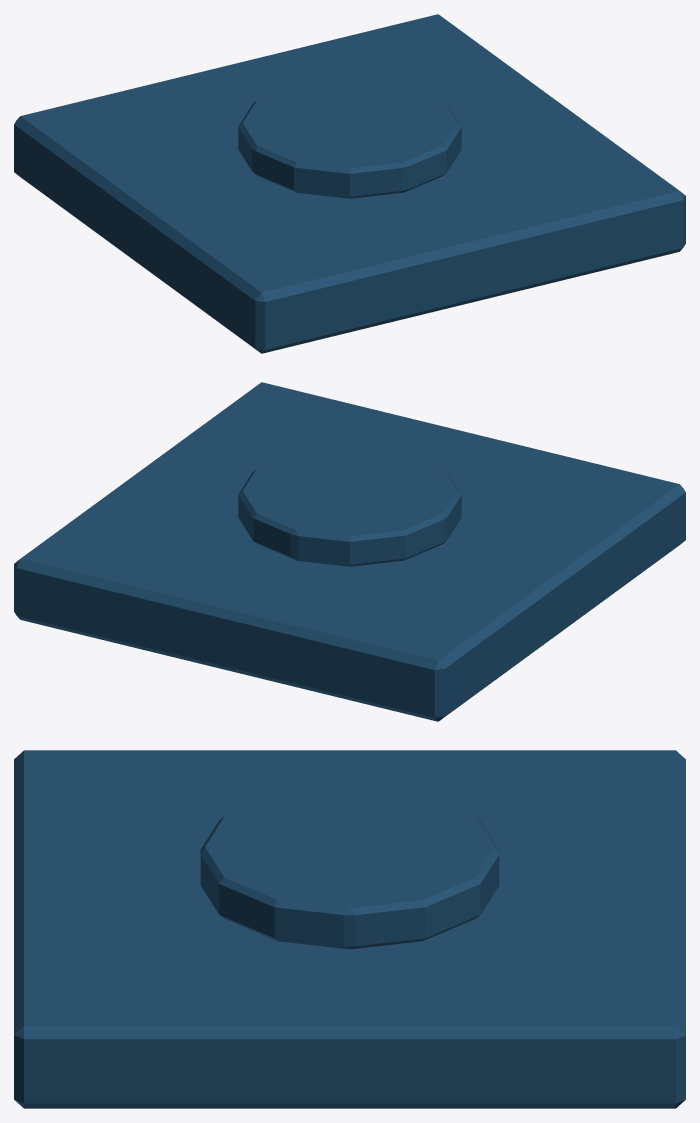
File: gotham_sea.glb
The picture shows the model from 3 angles, top to bottom: view 1: azimuth 30°, elevation 25°; view 2: azimuth 150°, elevation 25°; view 3: azimuth 270°, elevation 25°; orthographic projection. The views are drawn at different scales.
Parts seen in each view (by area): view 1: Sea_Brick_Prototype.003; view 2: Sea_Brick_Prototype.003; view 3: Sea_Brick_Prototype.003.
Part boxes in pixels (bbox=[...]): Sea_Brick_Prototype.003: bbox=[14, 14, 685, 353]; Sea_Brick_Prototype.003: bbox=[14, 382, 685, 721]; Sea_Brick_Prototype.003: bbox=[14, 750, 685, 1108].
Size of what is drawn, in the model's own units: 2.36 by 0.48 by 2.36.
